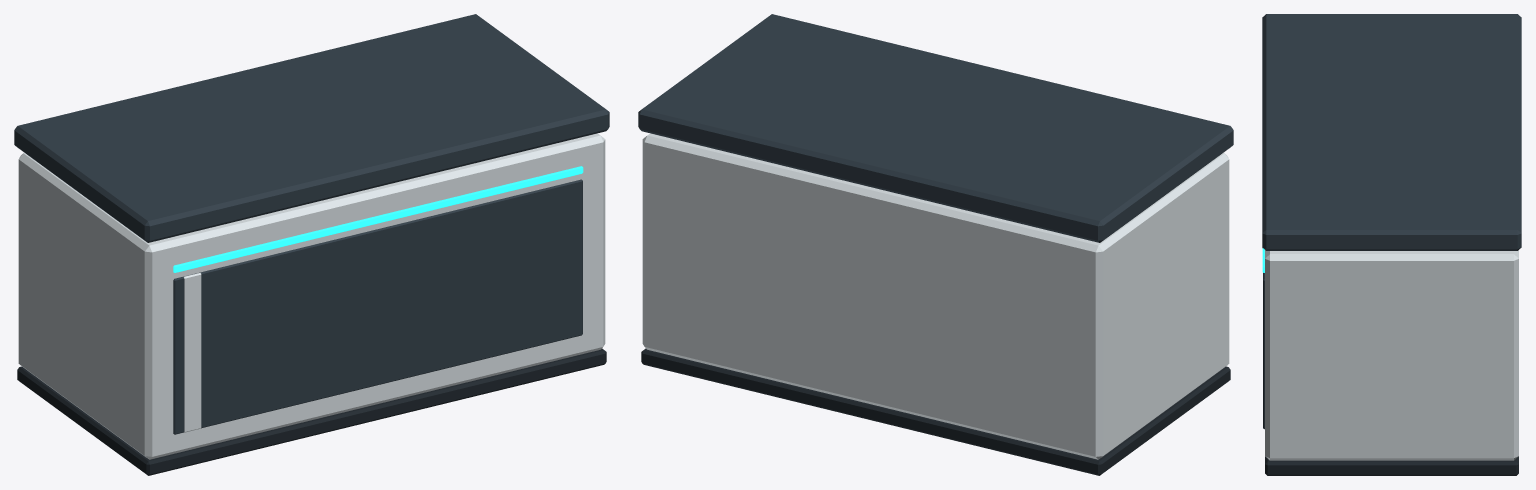
Rendered from SM_TS_SupplyTableSegment.fbx.
The picture shows the model from 3 angles, left to right: view 1: azimuth 30°, elevation 25°; view 2: azimuth 150°, elevation 25°; view 3: azimuth 270°, elevation 25°; orthographic projection. The views are drawn at different scales.
Parts seen in each view (by area): view 1: SM_TS_SupplyTableSegment; view 2: SM_TS_SupplyTableSegment; view 3: SM_TS_SupplyTableSegment.
Boxes of the visible parts, x1=… form: SM_TS_SupplyTableSegment: x1=14, y1=14, x2=609, y2=475; SM_TS_SupplyTableSegment: x1=638, y1=14, x2=1233, y2=475; SM_TS_SupplyTableSegment: x1=1262, y1=14, x2=1521, y2=475.
Bounding box in the file's own units: 200 × 100 × 105.
